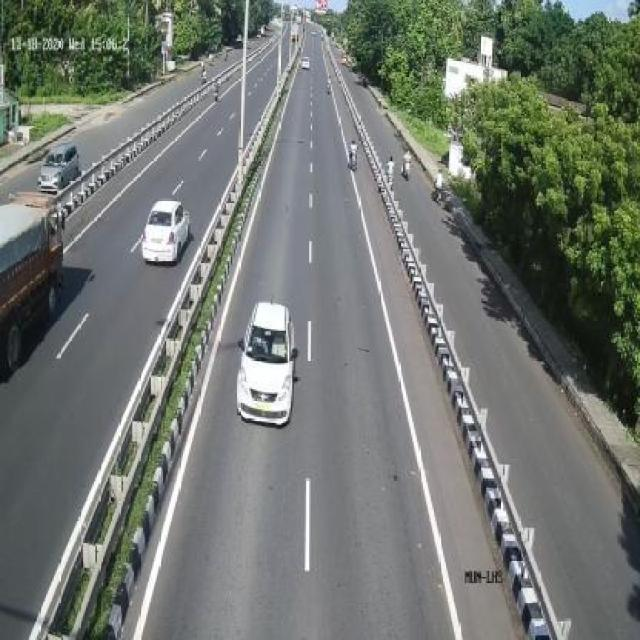car: (237, 297, 297, 432), (147, 198, 190, 271), (34, 141, 83, 197)
